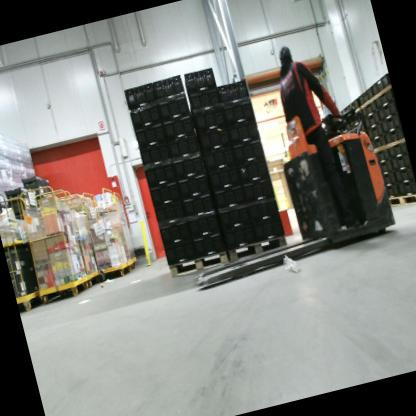pallet: (227, 233, 291, 267), (169, 252, 232, 281), (385, 188, 416, 213)
pallet_truck: (170, 96, 400, 292)
small_load_carrier: (0, 179, 45, 223), (153, 86, 193, 125), (180, 62, 222, 95), (21, 172, 60, 207), (148, 69, 189, 102), (121, 78, 158, 112), (190, 102, 229, 133), (157, 219, 195, 250), (196, 125, 234, 156), (160, 242, 200, 271), (133, 121, 169, 153), (221, 222, 258, 253), (216, 77, 253, 108), (160, 114, 199, 143), (222, 97, 258, 128), (128, 99, 162, 131), (178, 172, 213, 203), (192, 230, 227, 259), (152, 200, 189, 227), (211, 184, 248, 211), (143, 160, 178, 188), (148, 180, 184, 207), (216, 203, 252, 230), (203, 148, 239, 175), (165, 136, 200, 163), (233, 137, 268, 164), (241, 157, 274, 185), (186, 87, 222, 111), (251, 217, 283, 243), (139, 141, 172, 166), (189, 211, 222, 236), (209, 167, 243, 191), (245, 180, 274, 208), (247, 200, 280, 224), (357, 85, 380, 118), (173, 155, 204, 179), (185, 195, 217, 218), (231, 121, 262, 144), (371, 83, 396, 110), (369, 73, 393, 97), (375, 98, 398, 123), (392, 162, 415, 185), (389, 150, 412, 172), (380, 113, 402, 133), (384, 125, 404, 147), (386, 139, 407, 158), (361, 113, 383, 131), (376, 157, 396, 176), (398, 178, 416, 198), (370, 134, 390, 151), (379, 172, 399, 188), (382, 184, 401, 200), (0, 189, 9, 221), (367, 126, 386, 141), (373, 147, 392, 161)
